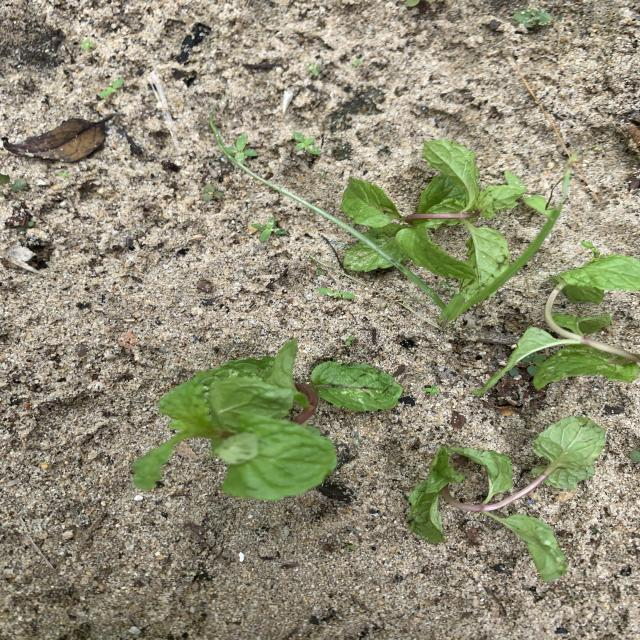crop: (133, 339, 403, 500), (409, 416, 606, 581), (342, 140, 527, 299), (472, 241, 640, 395)
weed: (211, 123, 572, 327), (249, 216, 289, 243), (226, 134, 258, 164), (292, 131, 321, 158), (97, 78, 124, 100), (318, 287, 356, 300), (200, 184, 224, 201), (423, 384, 441, 396), (81, 38, 96, 52), (345, 335, 355, 346), (56, 172, 70, 178)
